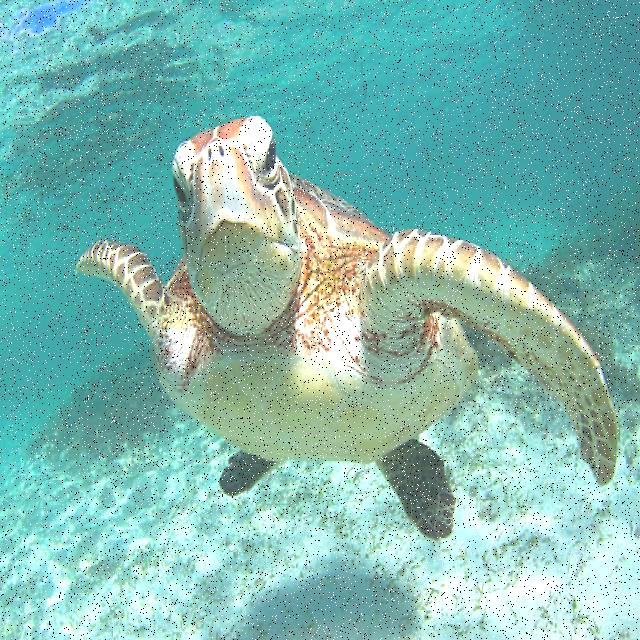tortoise: (60, 118, 630, 546)
